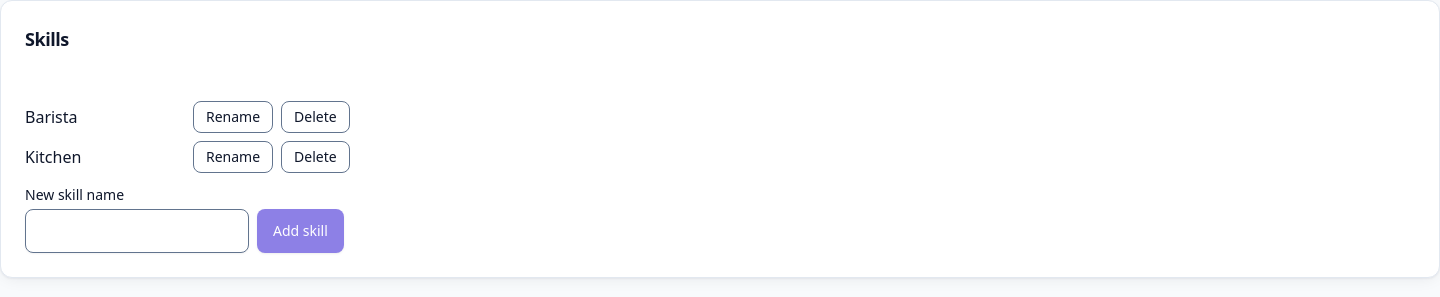
Test: SkillsSection › shows the server message for a duplicate name
Type "barista" into the field labelled "New skill name" at [137, 231], box left=25, top=209, right=249, bottom=253
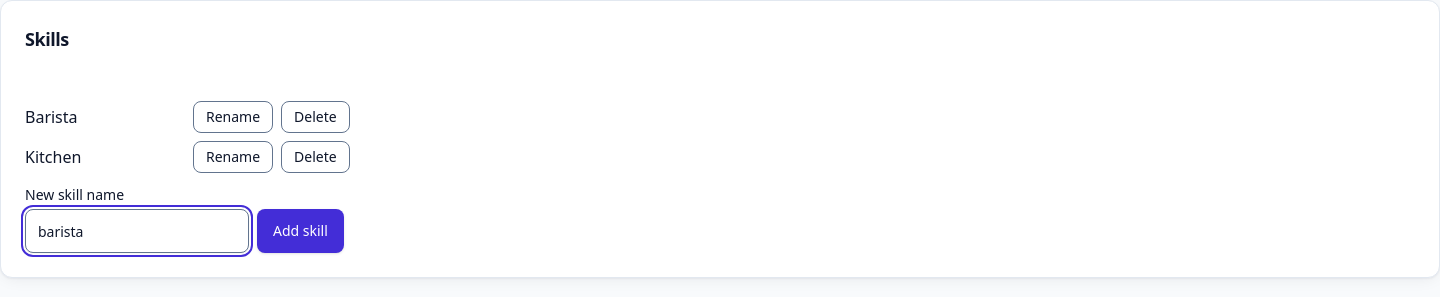
Click the button "Add skill" at [300, 231], box left=257, top=209, right=344, bottom=253
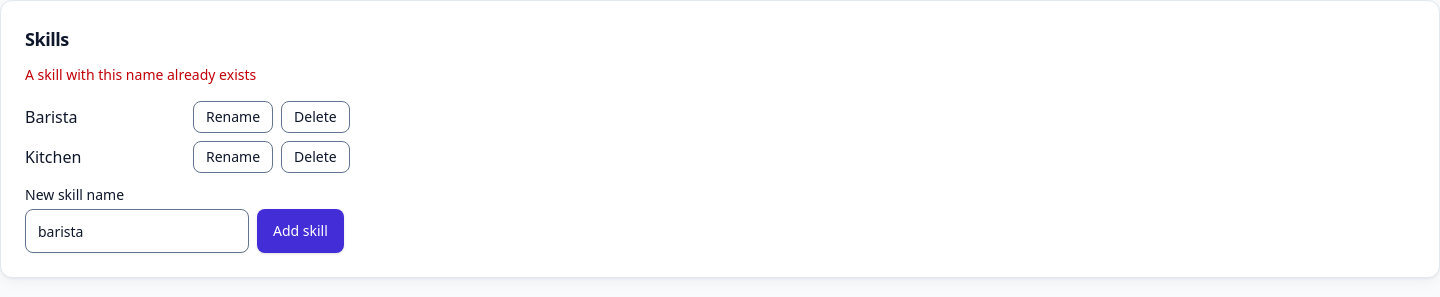
Expected: the message reads "A skill with this name already exists", left=25, top=65, right=256, bottom=84
